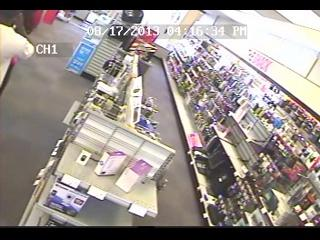Normal: (0, 12, 36, 98)
